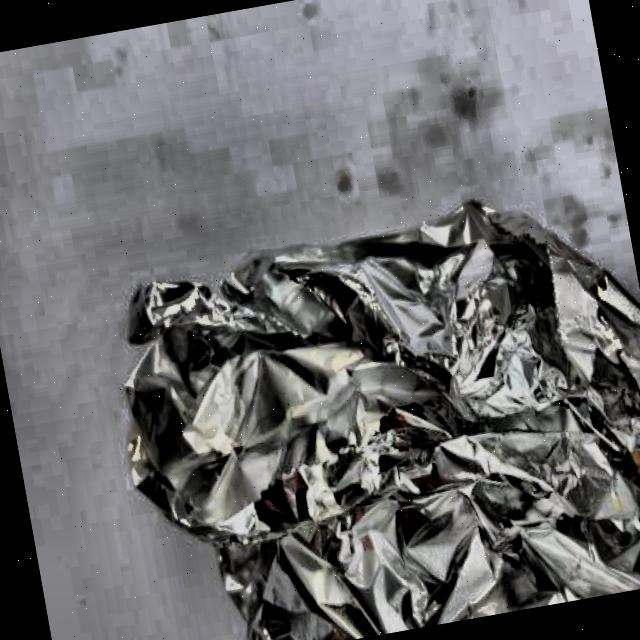metal: (94, 172, 640, 640)
